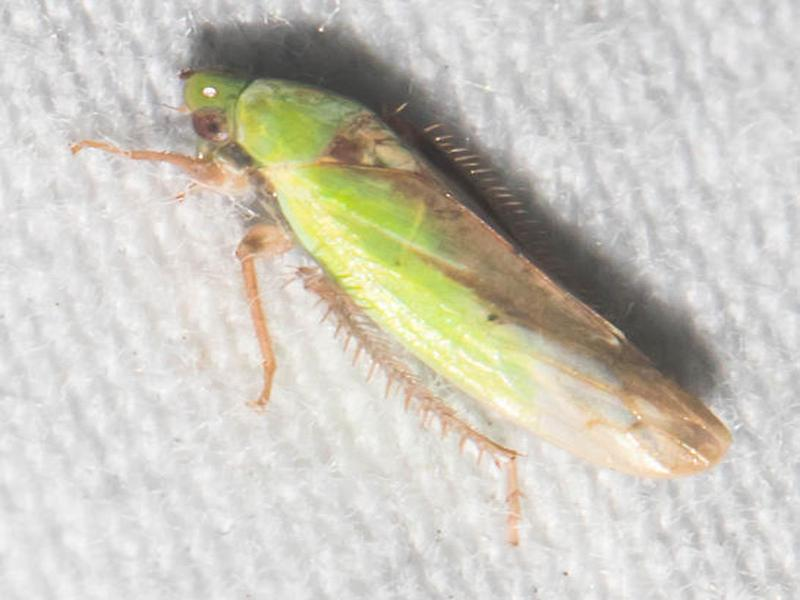Brown_plant_leafhopper: (148, 59, 743, 519)
